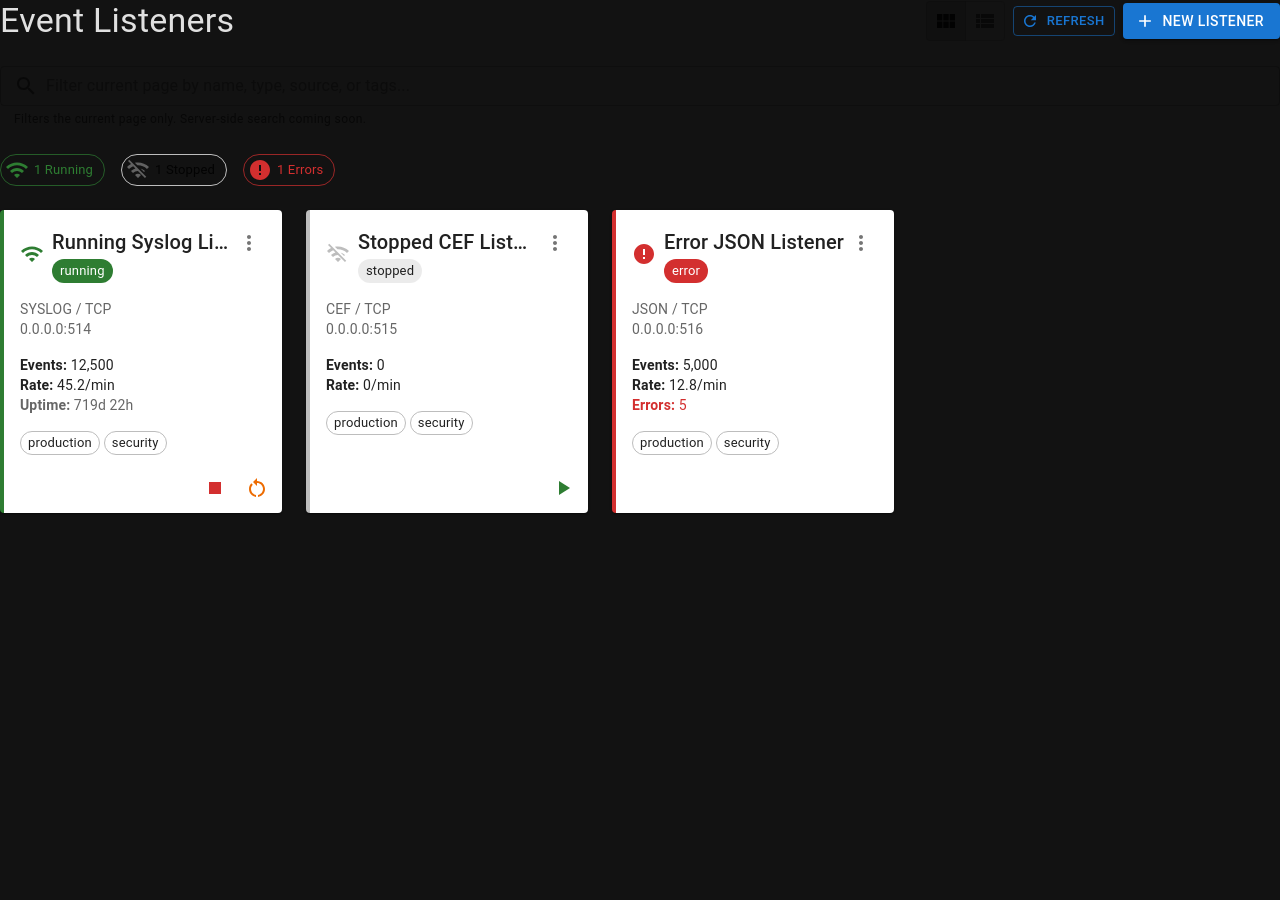
Scenario: Listeners Page › Delete Dialog › opens delete confirmation dialog from actions menu
Expected: the text "Stopped CEF Listener" is shown, [358,226,538,258]
Click the button named "open actions menu" at [555, 243], box [538,226,572,260]
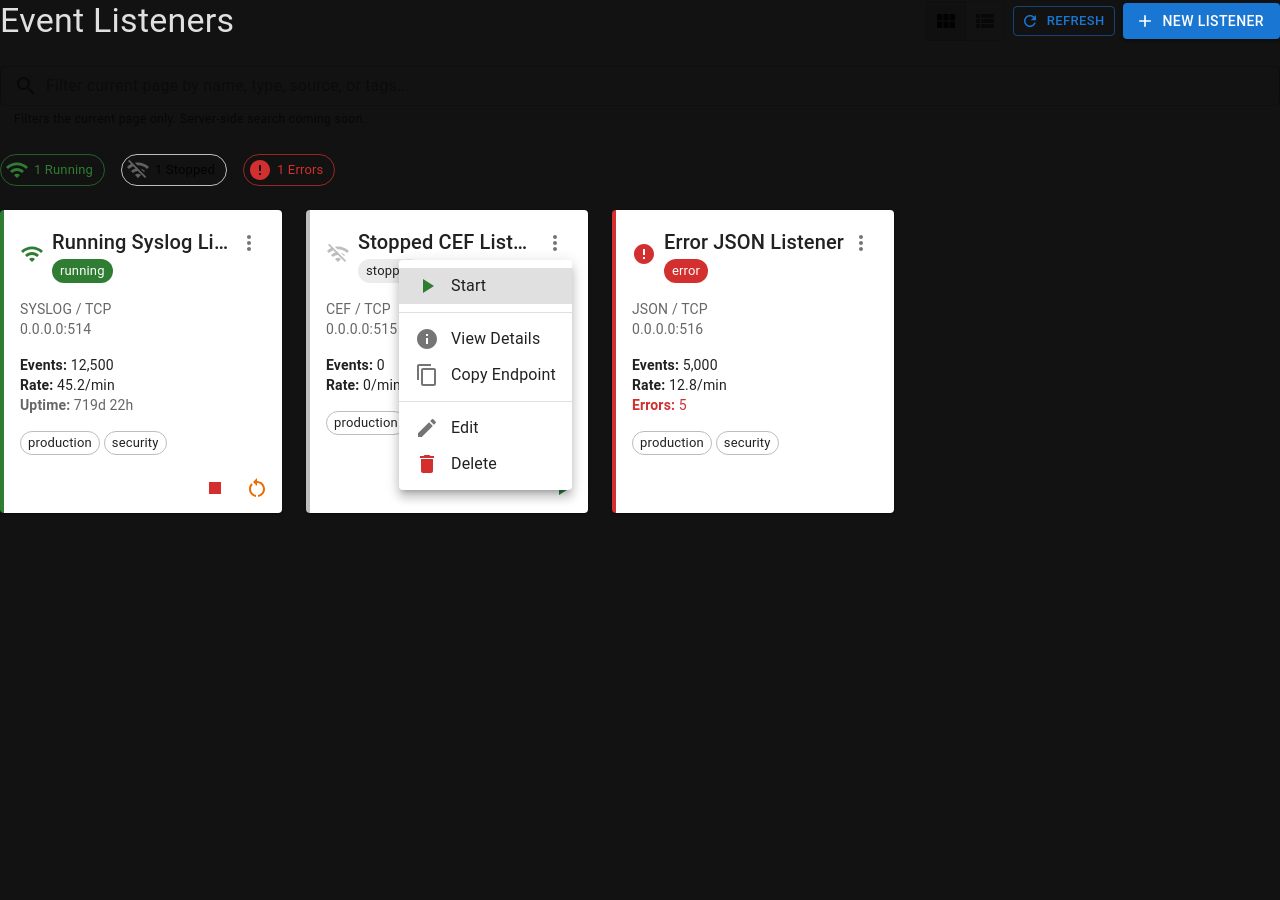
Click the menu item "Delete" at [456, 464], box [415,452,497,476]
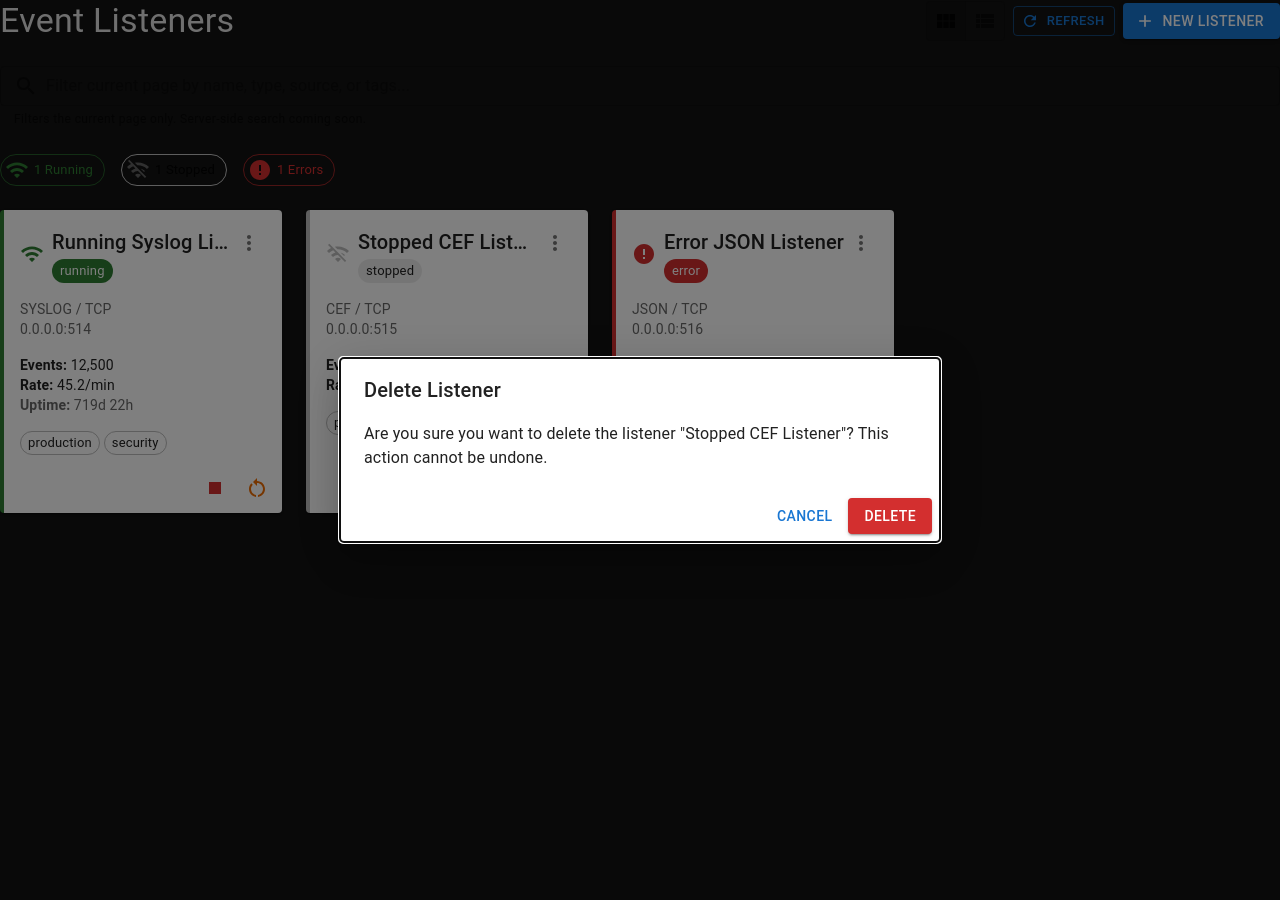
Now the dialog is shown, box [340,358,940,542]
Now the heading "Delete Listener" is shown, box [364,378,501,402]
Now the text "Are you sure" is shown, box [364,424,685,443]
